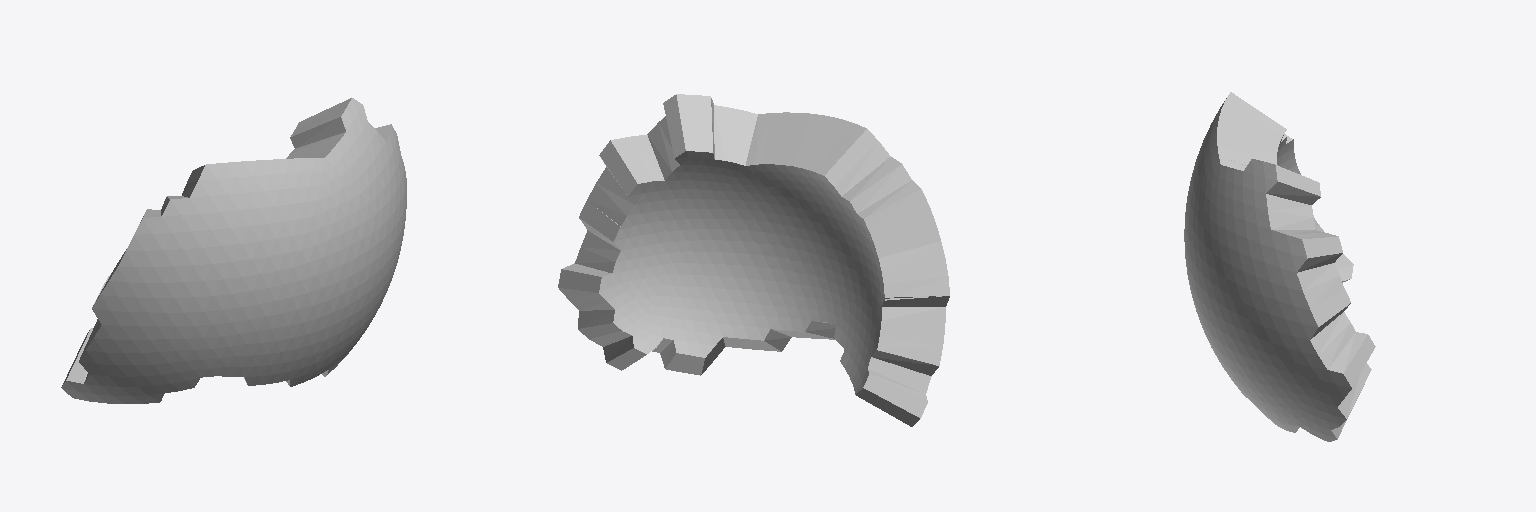
The model's file is clouds_16.obj.
The picture shows the model from 3 angles: view 1: azimuth 30°, elevation 25°; view 2: azimuth 150°, elevation 25°; view 3: azimuth 270°, elevation 25°; orthographic projection.
Parts seen in each view (by area): view 1: Icosphere.041; view 2: Icosphere.041; view 3: Icosphere.041.
Boxes of the visible parts, box(x1,y1,x2,y2) form: Icosphere.041: box(61, 98, 406, 403); Icosphere.041: box(558, 94, 949, 426); Icosphere.041: box(1184, 92, 1375, 441).
Size of the model in its own units: 17.9 by 13.41 by 8.48.